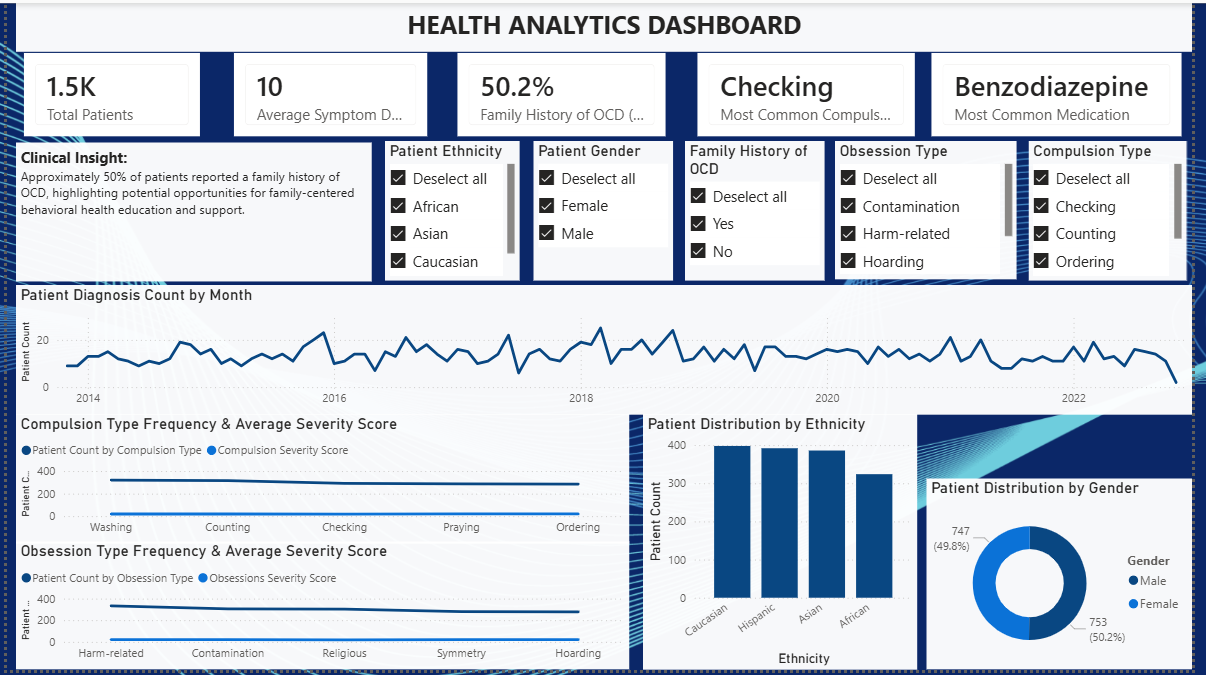

This screenshot's page, from the dashboard's own definition file:
{"tool":"powerbi","page":{"name":"Patient Overview","canvas":[1280,720],"ordinal":0},"visuals":[{"type":"textbox","box":[9.4,0,1269.9,52.9],"z":0},{"type":"lineChart","title":"Compulsion Type Frequency & Average Severity Score","fields":{"Y":["CountNonNull(ocd_patient_dataset.Compulsion_Type)","Avg(ocd_patient_dataset.Y_BOCS_Score_Compulsions)"],"Category":["ocd_patient_dataset.Compulsion_Type"]},"box":[10,444,662,140],"z":1000},{"type":"donutChart","title":"Patient Distribution by Gender","fields":{"Category":["ocd_patient_dataset.Gender"],"Y":["CountNonNull(ocd_patient_dataset.Patient_ID)"]},"box":[992,514,288,206],"z":2000},{"type":"columnChart","title":"Patient Distribution by Ethnicity","fields":{"Category":["ocd_patient_dataset.Ethnicity"],"Y":["CountNonNull(ocd_patient_dataset.Patient_ID)"]},"box":[686,444,296,276],"z":3000},{"type":"lineChart","title":"Patient Diagnosis Count by Month","fields":{"Category":["ocd_patient_dataset.OCD_Diagnosis_Date.Variation.Date Hierarchy.Year","ocd_patient_dataset.OCD_Diagnosis_Date.Variation.Date Hierarchy.Month"],"Y":["CountNonNull(ocd_patient_dataset.Patient_ID)"]},"box":[10,304,1270,140],"z":4000},{"type":"lineChart","title":"Obsession Type Frequency & Average Severity Score","fields":{"Y":["CountNonNull(ocd_patient_dataset.Obsession_Type)","Avg(ocd_patient_dataset.Y_BOCS_Score_Obsessions)"],"Category":["ocd_patient_dataset.Obsession_Type"]},"box":[10,582,662,138],"z":5000},{"type":"cardVisual","fields":{"Data":["avg_obs_by_gender.Total_Patients_Static"]},"box":[13.7,49,200,100],"z":6000},{"type":"cardVisual","fields":{"Data":["Sum(avg_duration_years.avg_duration_years)"]},"box":[239.2,49,219.6,100],"z":7000},{"type":"cardVisual","fields":{"Data":["Min(compulsion_type.Compulsion Type)"]},"box":[739.2,49,245.1,100],"z":8000},{"type":"cardVisual","fields":{"Data":["Min(medications_prev_diagnoses_and_patient_count.Medications)"]},"box":[992.2,49,280.4,100],"z":9000},{"type":"cardVisual","fields":{"Data":["family_history_and_patient_count.Family_History_Percent"]},"box":[480.4,49,235.3,100],"z":10000},{"type":"listSlicer","fields":{"Values":["ocd_patient_dataset.Ethnicity"]},"box":[407.8,149,145.1,151],"z":11000},{"type":"listSlicer","fields":{"Values":["ocd_patient_dataset.Family History Label"]},"box":[731.4,149,151,151],"z":12000},{"type":"listSlicer","fields":{"Values":["ocd_patient_dataset.Gender"]},"box":[568.6,149,151,151],"z":13000},{"type":"listSlicer","fields":{"Values":["ocd_patient_dataset.Obsession_Type"]},"box":[894.1,149,196.1,149],"z":14000},{"type":"listSlicer","fields":{"Values":["compulsion_type.Compulsion Type"]},"box":[1102,149,170.6,151],"z":15000},{"type":"textbox","box":[10,150,384,150],"z":16000}]}

Visuals, with their boxes in screenshot pixels (x1, y1, x2, y2), scaled from the page's 1280x720 canvas onto the 1206x675 screenshot:
textbox: region(9, 0, 1205, 50)
"Compulsion Type Frequency & Average Severity Score" lineChart: region(9, 416, 633, 548)
"Patient Distribution by Gender" donutChart: region(935, 482, 1205, 674)
"Patient Distribution by Ethnicity" columnChart: region(646, 416, 925, 674)
"Patient Diagnosis Count by Month" lineChart: region(9, 285, 1205, 416)
"Obsession Type Frequency & Average Severity Score" lineChart: region(9, 546, 633, 674)
cardVisual - avg_obs_by_gender.Total_Patients_Static: region(13, 46, 201, 140)
cardVisual - Sum(avg_duration_years.avg_duration_years): region(225, 46, 432, 140)
cardVisual - Min(compulsion_type.Compulsion Type): region(696, 46, 927, 140)
cardVisual - Min(medications_prev_diagnoses_and_patient_count.Medications): region(935, 46, 1199, 140)
cardVisual - family_history_and_patient_count.Family_History_Percent: region(453, 46, 674, 140)
listSlicer - ocd_patient_dataset.Ethnicity: region(384, 140, 521, 281)
listSlicer - ocd_patient_dataset.Family History Label: region(689, 140, 831, 281)
listSlicer - ocd_patient_dataset.Gender: region(536, 140, 678, 281)
listSlicer - ocd_patient_dataset.Obsession_Type: region(842, 140, 1027, 279)
listSlicer - compulsion_type.Compulsion Type: region(1038, 140, 1199, 281)
textbox: region(9, 141, 371, 281)
